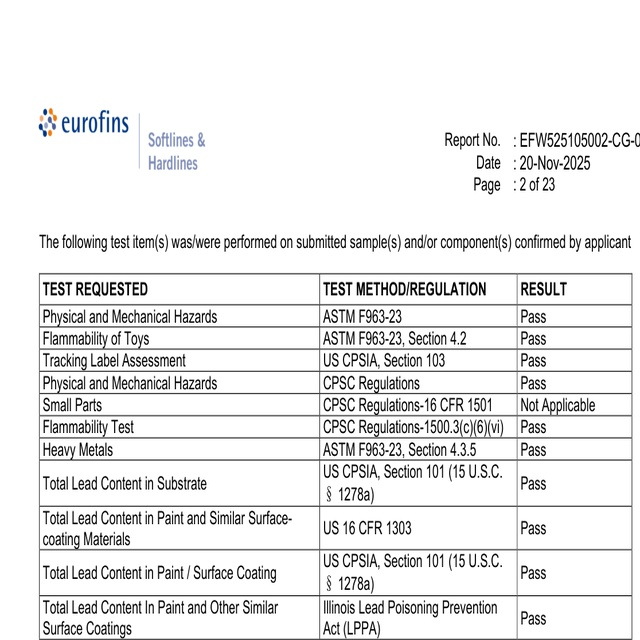eurofins: (35, 103, 134, 139)
